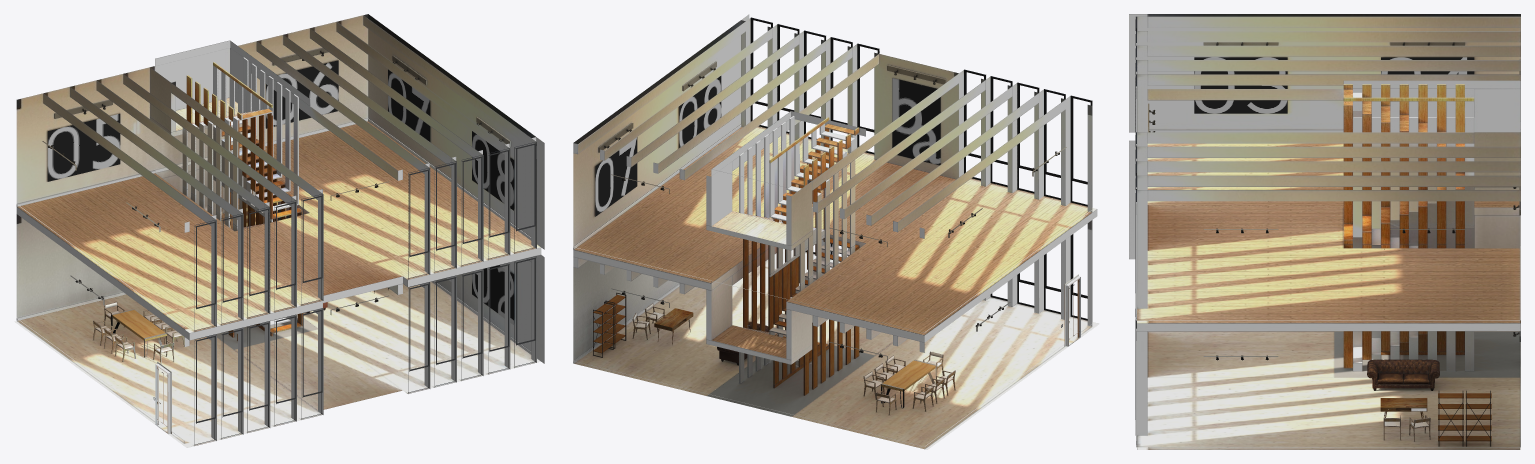
Rendered from gallery.glb.
3 renders of one model, left to right at view 1: azimuth 30°, elevation 25°; view 2: azimuth 150°, elevation 25°; view 3: azimuth 270°, elevation 25°, orthographic. The views are drawn at different scales.
Visible parts, largest first — view 1: Floor02, Floor01, Wall, White02, White01, Black, StairWhite, StairOak, Pic05, Gray, Pic06, Pic08 (+6 smaller); view 2: Floor02, White02, Floor01, Wall, White01, StairWhite, StairOak, Gray, Black, PicB, Pic07, ChairM (+6 smaller); view 3: White02, Floor02, Floor01, Wall, StairOak, StairWhite, White01, Gray, Pic03, Sofa, ShelfOak, Black (+4 smaller).
Part boxes in pixels (<box>): Floor02: <box>17,97,540,333</box>; Floor01: <box>14,281,540,447</box>; Wall: <box>16,14,544,424</box>; White02: <box>43,15,536,326</box>; White01: <box>16,118,541,443</box>; Black: <box>194,142,536,445</box>; StairWhite: <box>182,57,298,325</box>; StairOak: <box>186,62,303,340</box>; Pic05: <box>47,113,120,181</box>; Gray: <box>42,48,510,400</box>; Pic06: <box>266,60,338,128</box>; Pic08: <box>472,131,513,210</box>; Floor02: <box>574,126,1096,358</box>; White02: <box>573,18,1092,250</box>; Floor01: <box>574,248,1099,449</box>; Wall: <box>573,14,1080,363</box>; White01: <box>573,124,1097,446</box>; StairWhite: <box>739,115,855,383</box>; StairOak: <box>743,117,859,395</box>; Gray: <box>598,61,1066,416</box>; Black: <box>750,17,1092,321</box>; PicB: <box>892,78,940,165</box>; Pic07: <box>595,137,637,216</box>; ChairM: <box>633,303,955,414</box>; White02: <box>1135,16,1520,308</box>; Floor02: <box>1137,143,1520,323</box>; Floor01: <box>1137,331,1520,449</box>; Wall: <box>1129,14,1520,259</box>; StairOak: <box>1343,84,1474,368</box>; StairWhite: <box>1353,92,1474,371</box>; White01: <box>1135,130,1520,447</box>; Gray: <box>1147,42,1520,377</box>; Pic03: <box>1194,57,1287,113</box>; Sofa: <box>1367,359,1439,390</box>; ShelfOak: <box>1438,393,1491,441</box>; Black: <box>1135,16,1136,447</box>.
Size of what is drawn, in the model's own units: 14.61 by 9.11 by 12.6.
33 materials, 31 textured.
